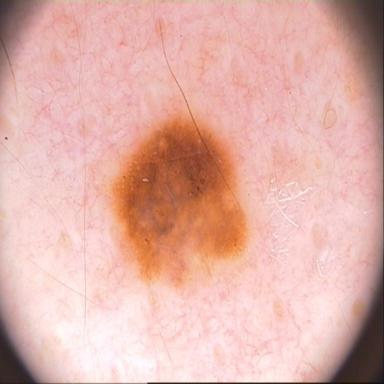nevus: (113, 120, 247, 287)
